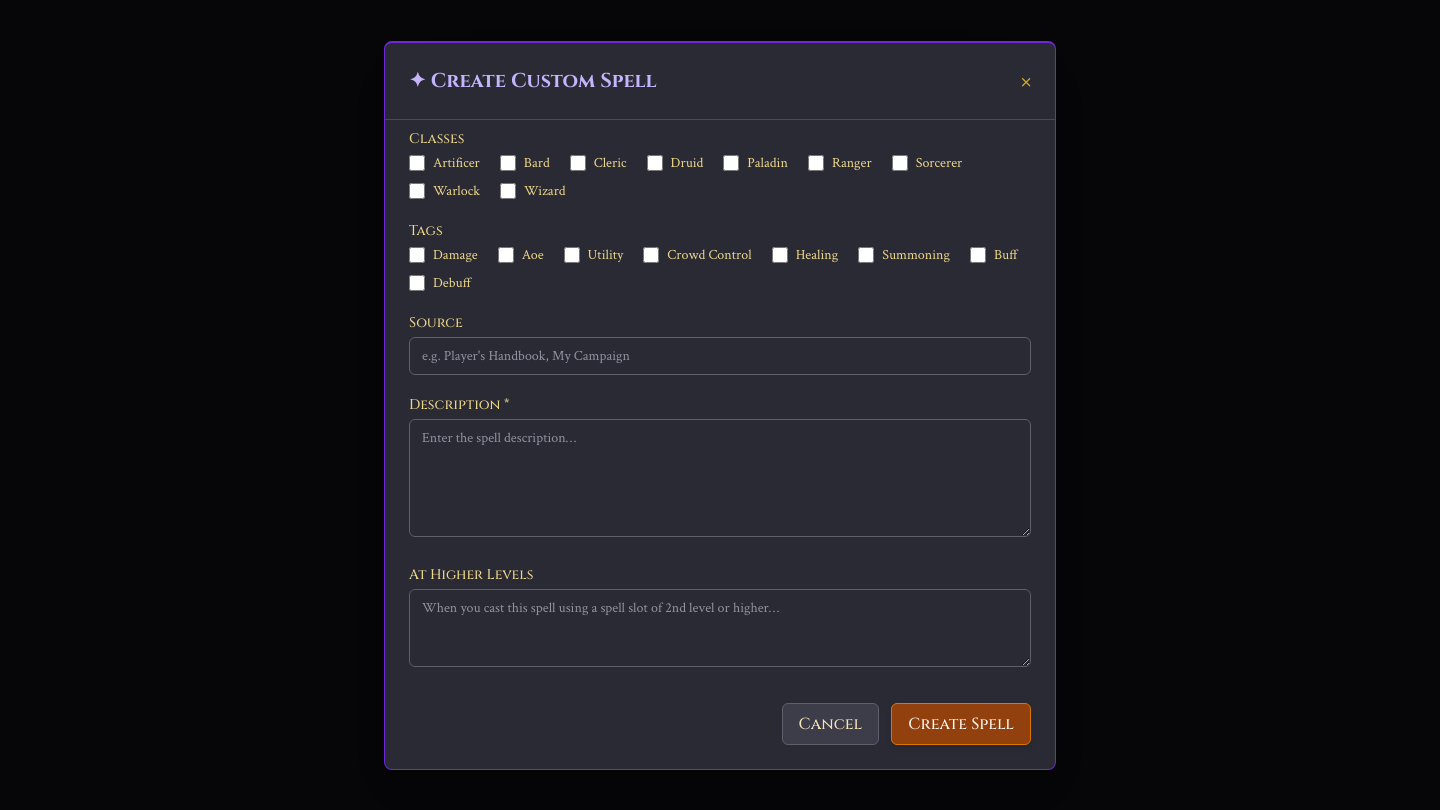
Test: CreateSpellModal › validation › shows "Name is required" when the name field is blank on submit
The width and height of the screenshot is (1440, 810).
(page scrolled)
Step 1. Click the button "Create Spell" → [961, 724], box [891, 702, 1031, 744]
(page scrolled)
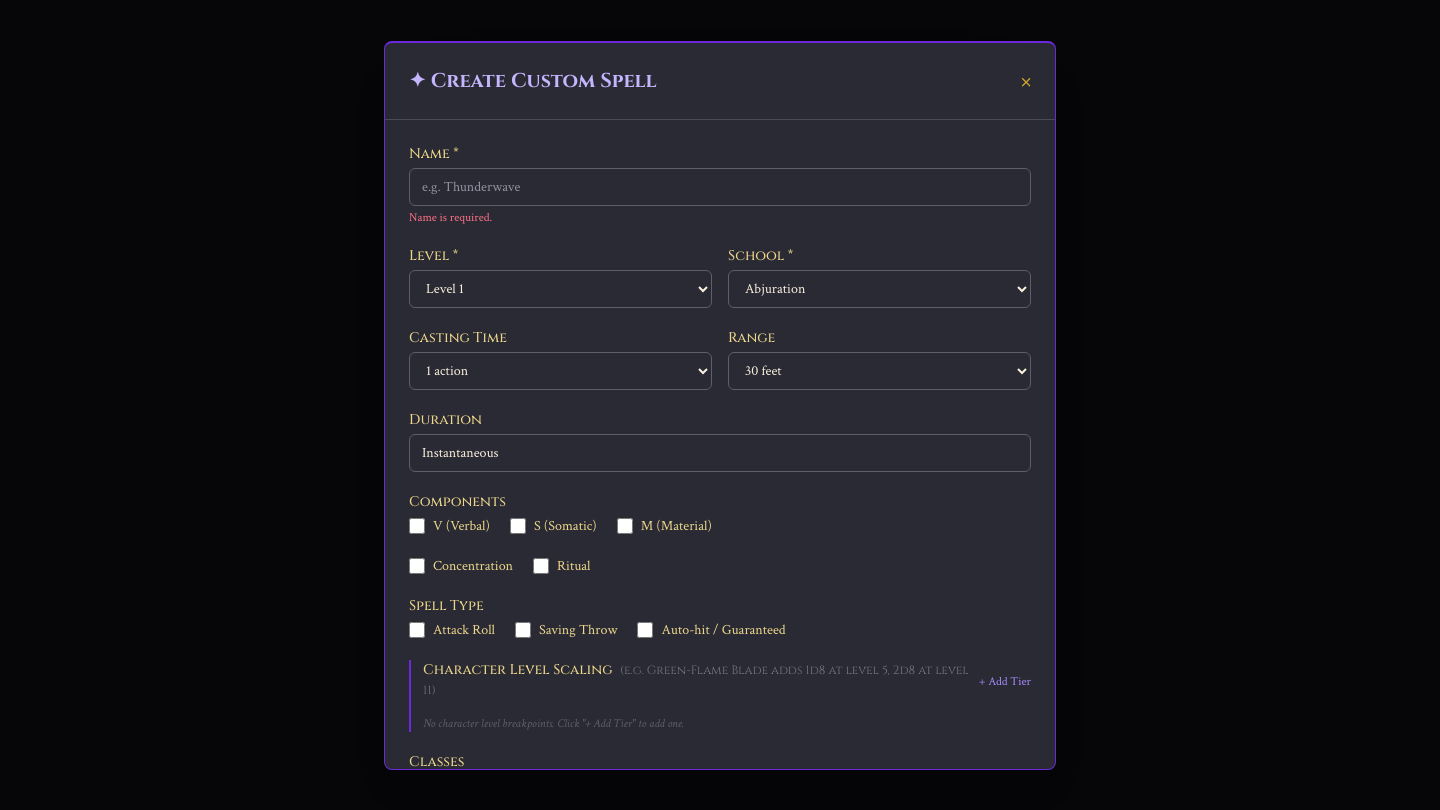
Expected: the text "Name is required." is shown, [409, 210, 492, 224]
